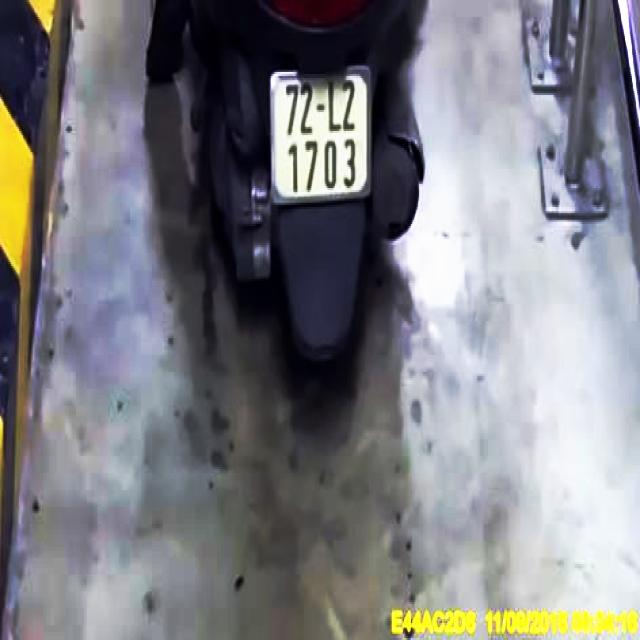license_plate: (273, 68, 373, 205)
